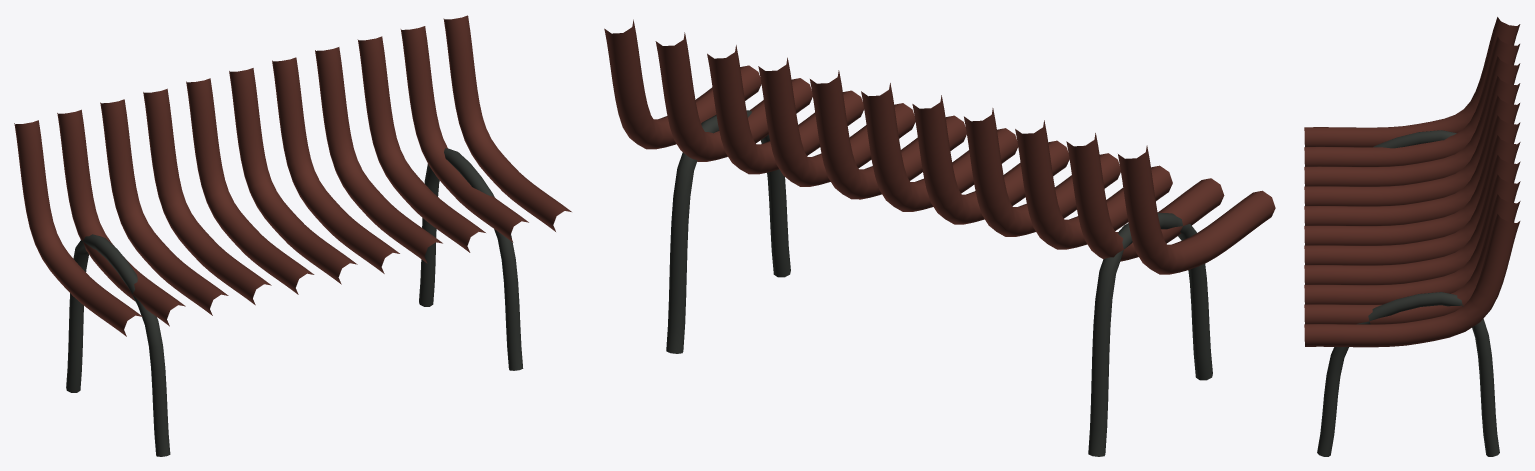
The model's file is garden-bench.glb.
3 renders of one model, left to right at view 1: azimuth 30°, elevation 25°; view 2: azimuth 150°, elevation 25°; view 3: azimuth 270°, elevation 25°, orthographic. The views are drawn at different scales.
Visible parts, largest first — view 1: surface-#5A2E25,0,0.7, surface-#30332F,0,0.7; view 2: surface-#5A2E25,0,0.7, surface-#30332F,0,0.7; view 3: surface-#5A2E25,0,0.7, surface-#30332F,0,0.7.
Boxes of the visible parts, bbox=[...] form: surface-#5A2E25,0,0.7: bbox=[14, 15, 571, 336]; surface-#30332F,0,0.7: bbox=[66, 148, 523, 456]; surface-#5A2E25,0,0.7: bbox=[604, 19, 1275, 274]; surface-#30332F,0,0.7: bbox=[666, 110, 1212, 456]; surface-#5A2E25,0,0.7: bbox=[1304, 17, 1520, 347]; surface-#30332F,0,0.7: bbox=[1317, 130, 1499, 456].
Size of the model in its own units: 1.54 by 0.8965 by 0.6771.
